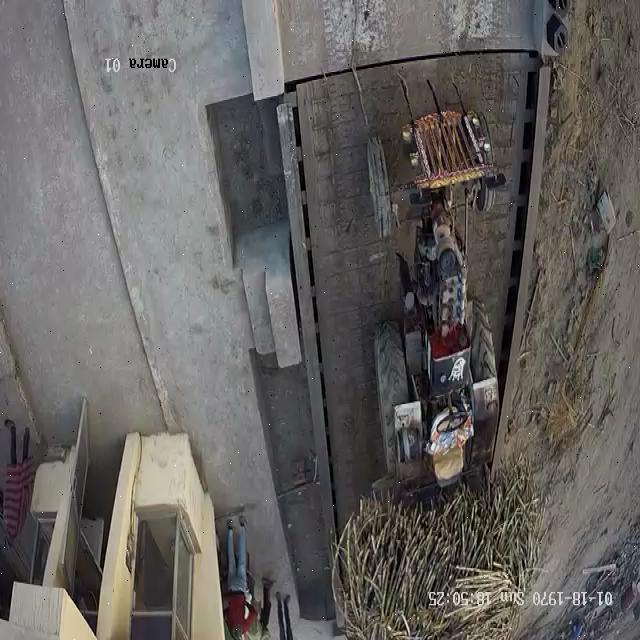Tratores - v5 YOLO V8L 2024-11-13: (353, 99, 521, 508)
